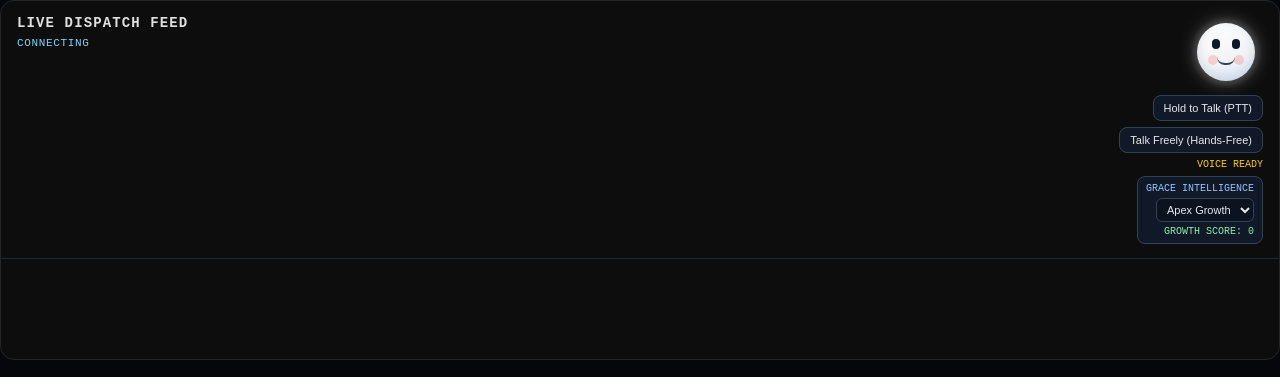
it: DispatchFeed › does not auto-retry hands-free on unclassified recognition errors
Click the button "Talk Freely (Hands-Free)".
click(1191, 140)  # box [1119,127,1263,153]
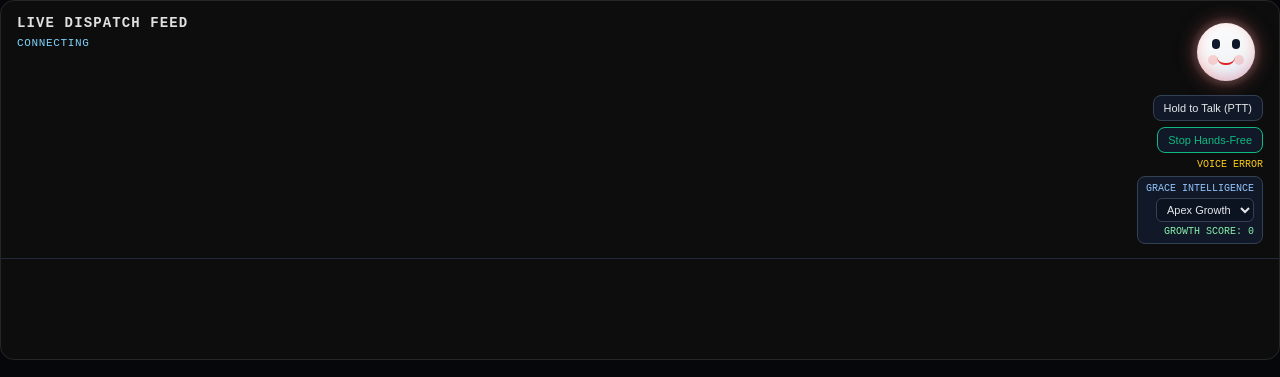
Check: the button "Stop Hands-Free" is shown, box [1157,127,1263,153]
Check: the text "Voice Error" is shown, box [1197,159,1263,170]
